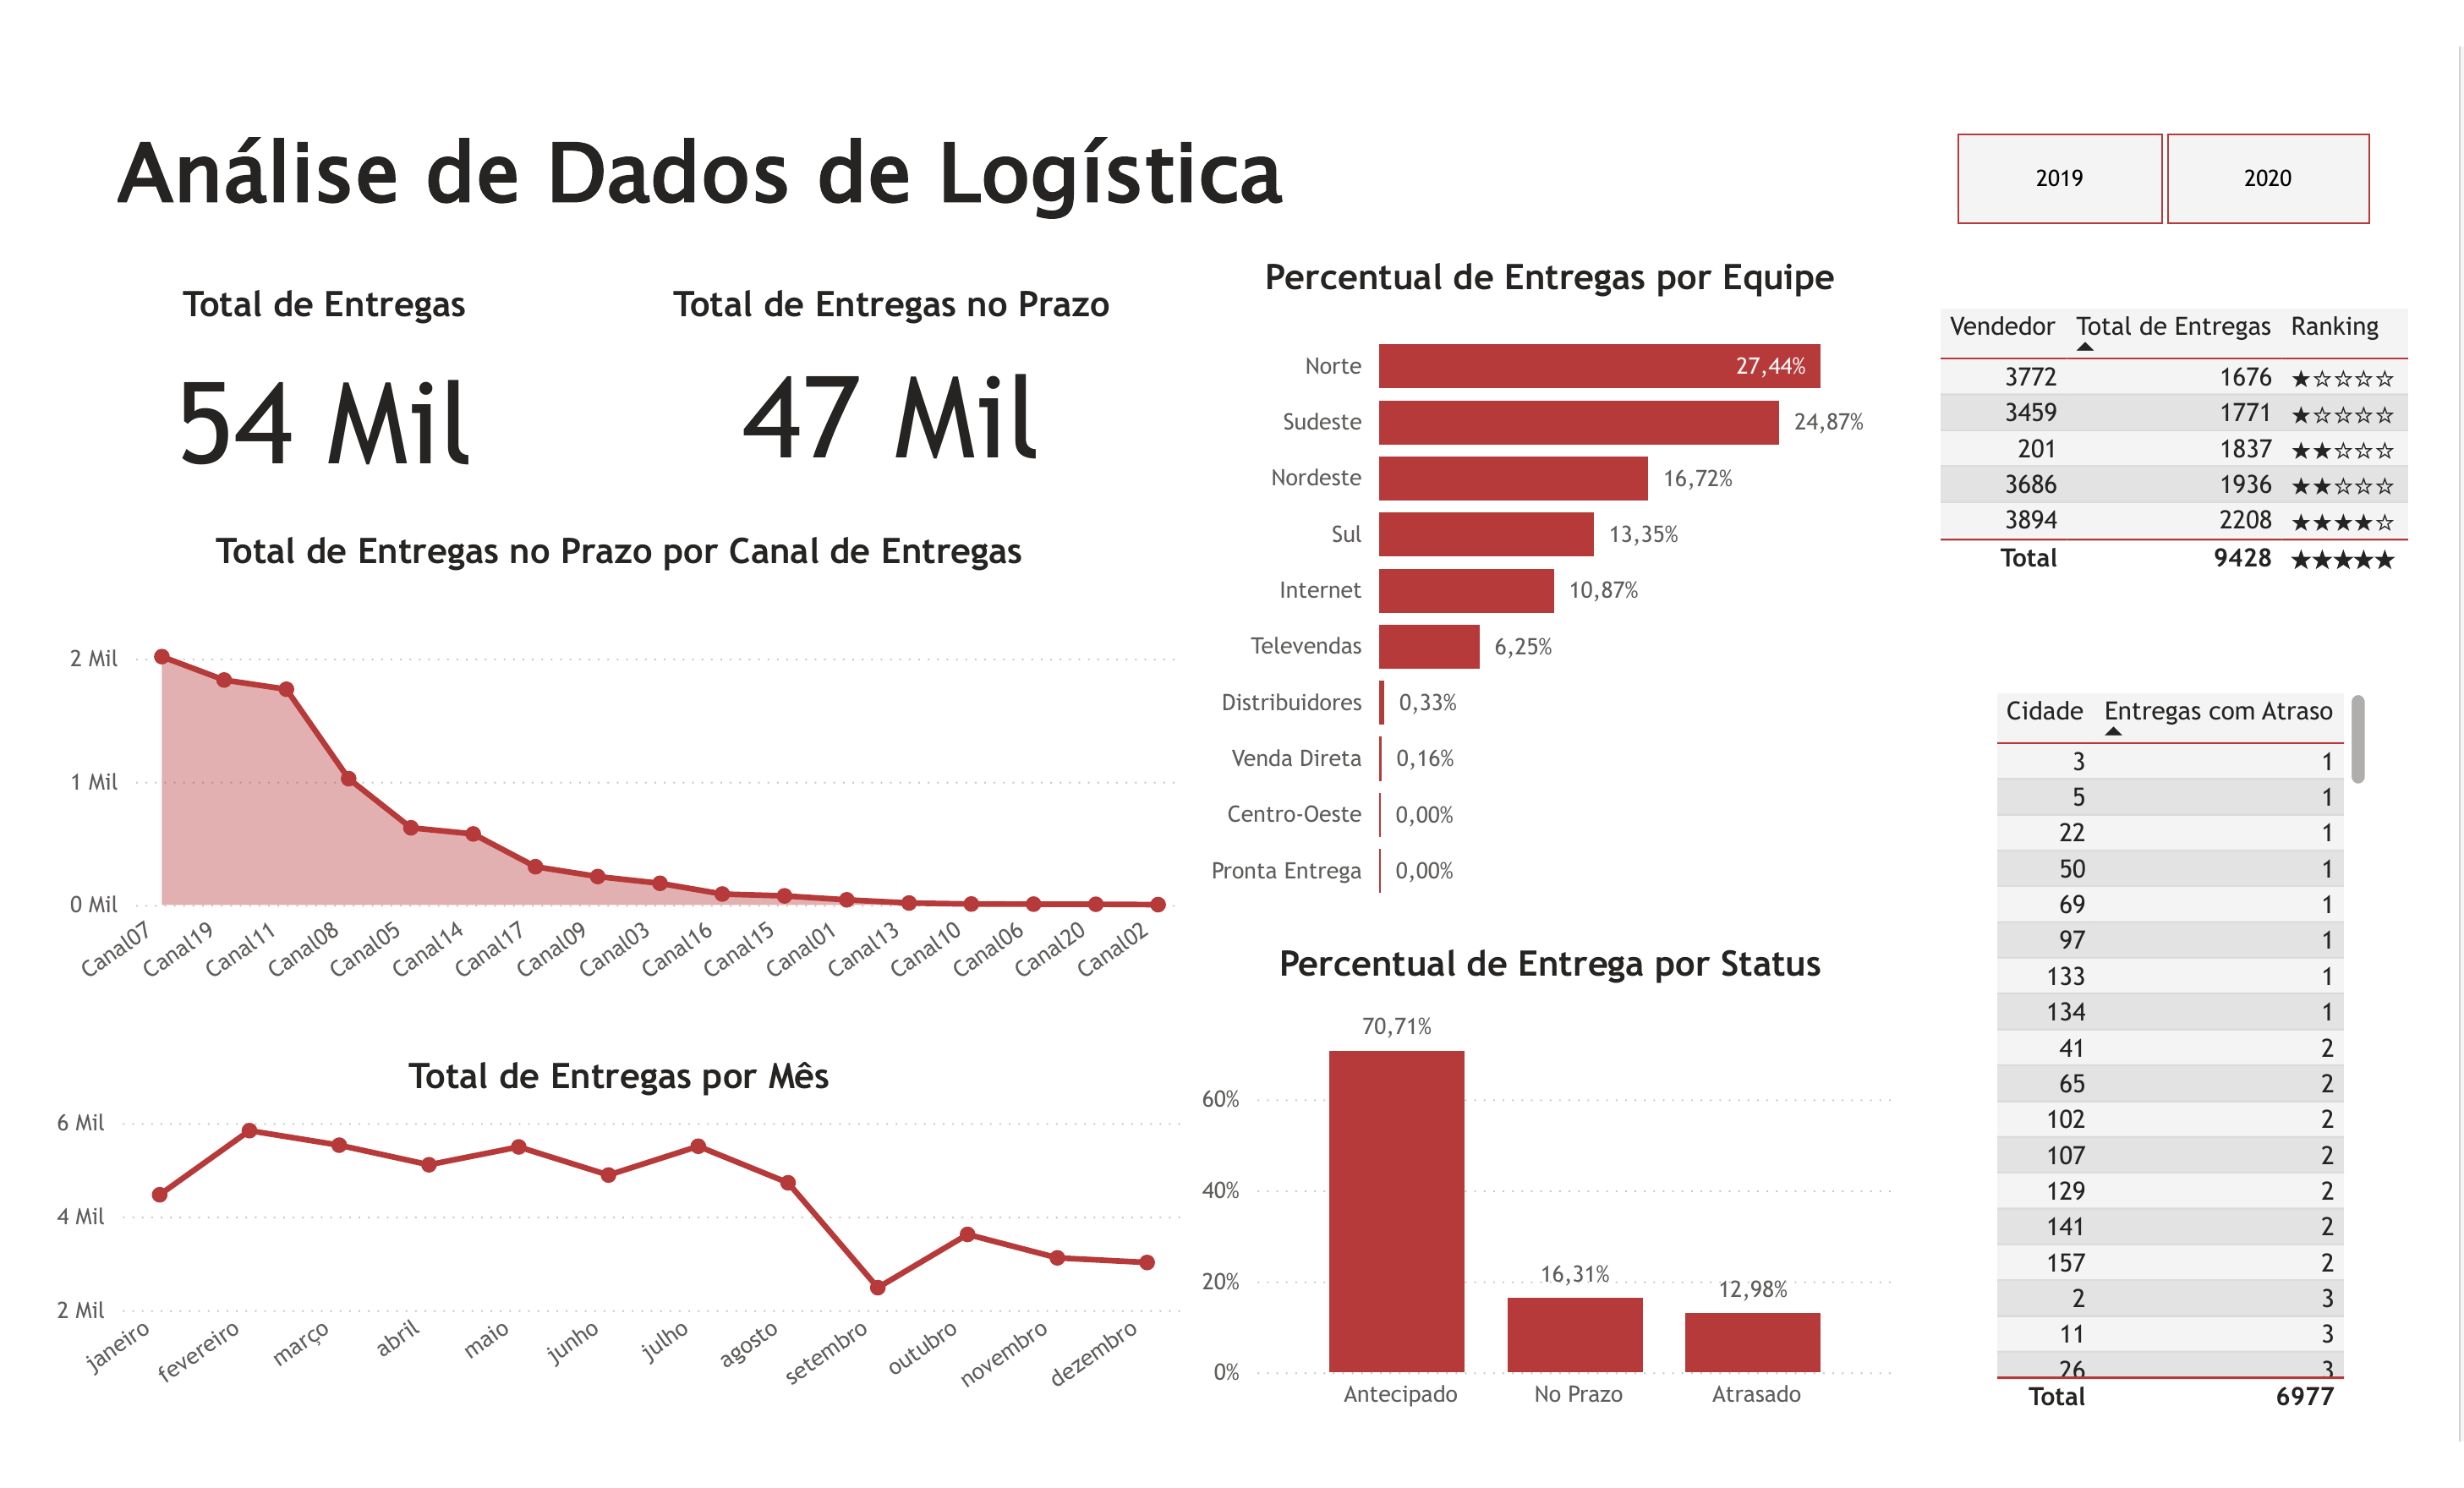

This screenshot's page, from the dashboard's own definition file:
{"tool":"powerbi","page":{"name":"Página 1","canvas":[1280,720],"ordinal":0},"visuals":[{"type":"areaChart","title":"Total de Entregas no Prazo por Canal de Entregas","fields":{"Category":["Logistica.Canal_Entrega"],"Y":["Medidas.TotalEntregas"]},"box":[0,246.5,608.2,258.4],"z":0},{"type":"barChart","title":"Percentual de Entregas por Equipe","fields":{"Category":["Logistica.Equipe_Entrega"],"Y":["Medidas.TotalEntregas"]},"box":[608.2,100.7,380.3,355.1],"z":1000},{"type":"lineChart","title":"Total de Entregas por Mês","fields":{"Y":["Medidas.TotalEntregas"],"Category":["Logistica.Data_Entrega_Realizada.Variation.Hierarquia de datas.Mês"]},"box":[0,524.7,608.2,196.1],"z":2000},{"type":"tableEx","title":"Top 5 Vendedores","fields":{"Values":["Logistica.ID_Vendedor","Medidas.TotalEntregas","Medidas.Classificação por estrelas TotalEntregas"]},"box":[998.9,124.4,268.7,179.1],"z":3000},{"type":"tableEx","fields":{"Values":["Logistica.ID_Cidade","Medidas.TotalEntregas"]},"box":[1028.8,328.4,207.7,391.8],"z":4000},{"type":"columnChart","title":"Percentual de Entrega por Status","fields":{"Category":["Logistica.Status_Entrega"],"Y":["Medidas.TotalEntregas"]},"box":[608.2,465.1,380.3,255.7],"z":5000},{"type":"card","title":"Total de Entregas","fields":{"Values":["Medidas.TotalEntregas"]},"box":[33.1,115.3,229.2,117.9],"z":6000},{"type":"card","title":"Total de Entregas no Prazo","fields":{"Values":["Medidas.TotalEntregasPrazo"]},"box":[320.7,115.3,255.7,111.3],"z":7000},{"type":"slicer","fields":{"Values":["Logistica.Data_Entrega_Realizada.Variation.Hierarquia de datas.Ano"]},"box":[988.5,29.2,269,62.3],"z":8000},{"type":"textbox","box":[33.1,19.9,677.1,79.5],"z":9000}]}

Visuals, with their boxes on the page's 1280x720 design canvas (x1, y1, x2, y2). These are canvas units, not pixel positions in the 2464x1488 screenshot, which may show the page scaled, cropped or inside an application window:
"Total de Entregas no Prazo por Canal de Entregas" areaChart: select_region(0, 246, 608, 505)
"Percentual de Entregas por Equipe" barChart: select_region(608, 101, 988, 456)
"Total de Entregas por Mês" lineChart: select_region(0, 525, 608, 721)
"Top 5 Vendedores" tableEx: select_region(999, 124, 1268, 304)
tableEx - Logistica.ID_Cidade x Medidas.TotalEntregas: select_region(1029, 328, 1236, 720)
"Percentual de Entrega por Status" columnChart: select_region(608, 465, 988, 721)
"Total de Entregas" card: select_region(33, 115, 262, 233)
"Total de Entregas no Prazo" card: select_region(321, 115, 576, 227)
slicer - Logistica.Data_Entrega_Realizada.Variation.Hierarquia de datas.Ano: select_region(988, 29, 1258, 92)
textbox: select_region(33, 20, 710, 99)
